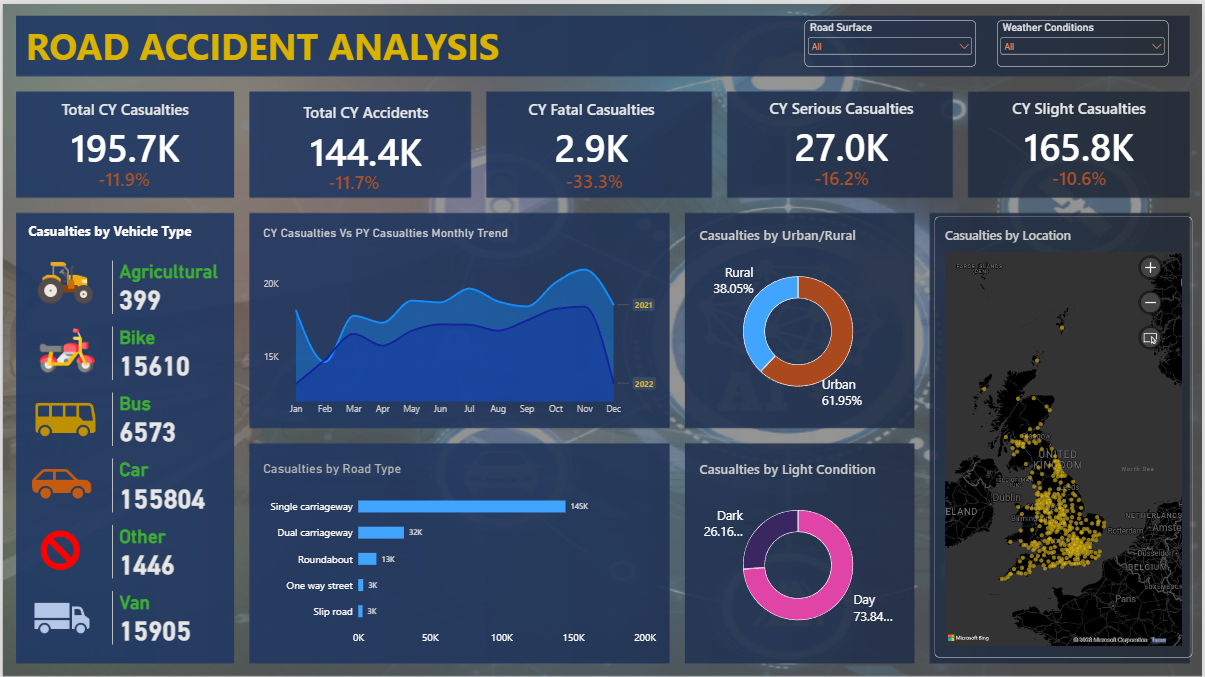

The dashboard page shown, as its layout file describes it:
{"tool":"powerbi","page":{"name":"Page 1","canvas":[1920,1080],"ordinal":0},"visuals":[{"type":"cardVisual","title":"CY Serious Casualties","fields":{"Data":["Data.CY Casualties"]},"box":[1173.2,150.3,338.4,105],"z":0,"group":"g4"},{"type":"cardVisual","title":"CY  Slight Casualties","fields":{"Data":["Data.CY Casualties"]},"box":[1554,150.3,338.4,105],"z":0,"group":"g5"},{"type":"group","id":"g1","title":"Group 1","box":[29,152,338.4,150.2],"z":0},{"type":"cardVisual","title":"Total CY Casualties","fields":{"Data":["Data.CY Casualties"]},"box":[29,152,338.4,105],"z":0,"group":"g1"},{"type":"cardVisual","title":"CY Fatal Casualties","fields":{"Data":["Data.CY Casualties"]},"box":[774.5,152,338.4,105],"z":0,"group":"g3"},{"type":"cardVisual","title":"Total CY Accidents","fields":{"Data":["Data.CY Accidents"]},"box":[414.3,156,336.6,108.6],"z":0,"group":"g2"},{"type":"group","id":"g2","title":"Group 1","box":[414.3,156,336.6,150.1],"z":1000},{"type":"cardVisual","fields":{"Data":["Data.YOY Casualties"]},"box":[1283.8,254.7,129.7,45.3],"z":1000,"group":"g4"},{"type":"cardVisual","fields":{"Data":["Data.YOY Casualties"]},"box":[1664.6,254.7,129.7,45.3],"z":1000,"group":"g5"},{"type":"cardVisual","fields":{"Data":["Data.YOY Casualties"]},"box":[139.4,257,117.6,45.2],"z":1000,"group":"g1"},{"type":"cardVisual","fields":{"Data":["Data.YOY Accidents"]},"box":[506,260.9,117.6,45.2],"z":1000,"group":"g2"},{"type":"cardVisual","fields":{"Data":["Data.YOY Casualties"]},"box":[886.6,261.1,137.9,41.2],"z":1000,"group":"g3"},{"type":"group","id":"g3","title":"Group 1","box":[774.5,152,338.4,150.2],"z":2000},{"type":"group","id":"g4","title":"Group 1","box":[1173.2,150.3,338.4,149.7],"z":3000},{"type":"group","id":"g5","title":"Group 1","box":[1554,150.3,337.6,150.3],"z":4000},{"type":"textbox","box":[38,25.3,906.6,92.3],"z":5000},{"type":"multiRowCard","fields":{"Values":["Data.Vehicle_Type (groups)","Data.CY Casualties"]},"box":[159.3,396.3,208.1,666],"z":6000},{"type":"image","box":[38,611.7,126.7,105],"z":7000},{"type":"image","box":[32.6,716.6,126.7,103.2],"z":8000},{"type":"image","box":[41.6,510.3,124.9,88.7],"z":9000},{"type":"image","box":[48.9,834.3,90.5,79.6],"z":10000},{"type":"image","box":[29,398.1,146.6,94.1],"z":11000},{"type":"image","box":[39.8,933.8,112.2,95.9],"z":12000},{"type":"textbox","box":[41.6,347.5,300.4,30.8],"z":13000},{"type":"clusteredBarChart","title":"Casualties by Road Type","fields":{"Category":["Data.Road_Type"],"Y":["Data.CY Casualties"]},"box":[401.7,716.6,660.5,329.4],"z":14000},{"type":"areaChart","title":"CY Casualties Vs PY Casualties Monthly Trend","fields":{"Category":["Calendar.Month"],"Y":["Sum(Data.Number_of_Casualties)"],"Series":["Calendar.Date.Variation.Date Hierarchy.Year"]},"box":[401.7,340.2,660.5,338.4],"z":15000},{"type":"donutChart","title":"Casualties by Urban/Rural","fields":{"Category":["Data.Urban_or_Rural_Area"],"Y":["Data.CY Casualties"]},"box":[1100.3,340.2,347.5,323.9],"z":16000},{"type":"donutChart","title":"Casualties by Light Condition","fields":{"Y":["Data.CY Casualties"],"Category":["Data.Light_Conditions (groups)"]},"box":[1100.3,713,347.5,323.9],"z":17000},{"type":"map","title":"Casualties by Location","fields":{"Y":["Data.Latitude"],"X":["Data.Longitude"],"Category":["Data.Local_Authority_(District)"]},"box":[1493,340.2,412.6,705.8],"z":18000},{"type":"slicer","fields":{"Values":["Data.Weather_Conditions (groups)"]},"box":[1592,26,274,74],"z":18001},{"type":"slicer","fields":{"Values":["Data.Road_Surface_Conditions (groups)"]},"box":[1284,26,274,74],"z":18002}]}

Visuals, with their boxes in screenshot pixels (x1, y1, x2, y2), scaled from the page's 1920x1080 canvas onto the 1205x677 screenshot:
"CY Serious Casualties" cardVisual: [736, 94, 949, 160]
"CY  Slight Casualties" cardVisual: [975, 94, 1188, 160]
"Group 1" group: [18, 95, 231, 189]
"Total CY Casualties" cardVisual: [18, 95, 231, 161]
"CY Fatal Casualties" cardVisual: [486, 95, 698, 161]
"Total CY Accidents" cardVisual: [260, 98, 471, 166]
"Group 1" group: [260, 98, 471, 192]
cardVisual - Data.YOY Casualties: [806, 160, 887, 188]
cardVisual - Data.YOY Casualties: [1045, 160, 1126, 188]
cardVisual - Data.YOY Casualties: [87, 161, 161, 189]
cardVisual - Data.YOY Accidents: [318, 164, 391, 192]
cardVisual - Data.YOY Casualties: [556, 164, 643, 189]
"Group 1" group: [486, 95, 698, 189]
"Group 1" group: [736, 94, 949, 188]
"Group 1" group: [975, 94, 1187, 188]
textbox: [24, 16, 593, 74]
multiRowCard - Data.Vehicle_Type (groups) x Data.CY Casualties: [100, 248, 231, 666]
image: [24, 383, 103, 449]
image: [20, 449, 100, 514]
image: [26, 320, 104, 375]
image: [31, 523, 87, 573]
image: [18, 250, 110, 309]
image: [25, 585, 95, 645]
textbox: [26, 218, 215, 237]
"Casualties by Road Type" clusteredBarChart: [252, 449, 667, 656]
"CY Casualties Vs PY Casualties Monthly Trend" areaChart: [252, 213, 667, 425]
"Casualties by Urban/Rural" donutChart: [691, 213, 909, 416]
"Casualties by Light Condition" donutChart: [691, 447, 909, 650]
"Casualties by Location" map: [937, 213, 1196, 656]
slicer - Data.Weather_Conditions (groups): [999, 16, 1171, 63]
slicer - Data.Road_Surface_Conditions (groups): [806, 16, 978, 63]
